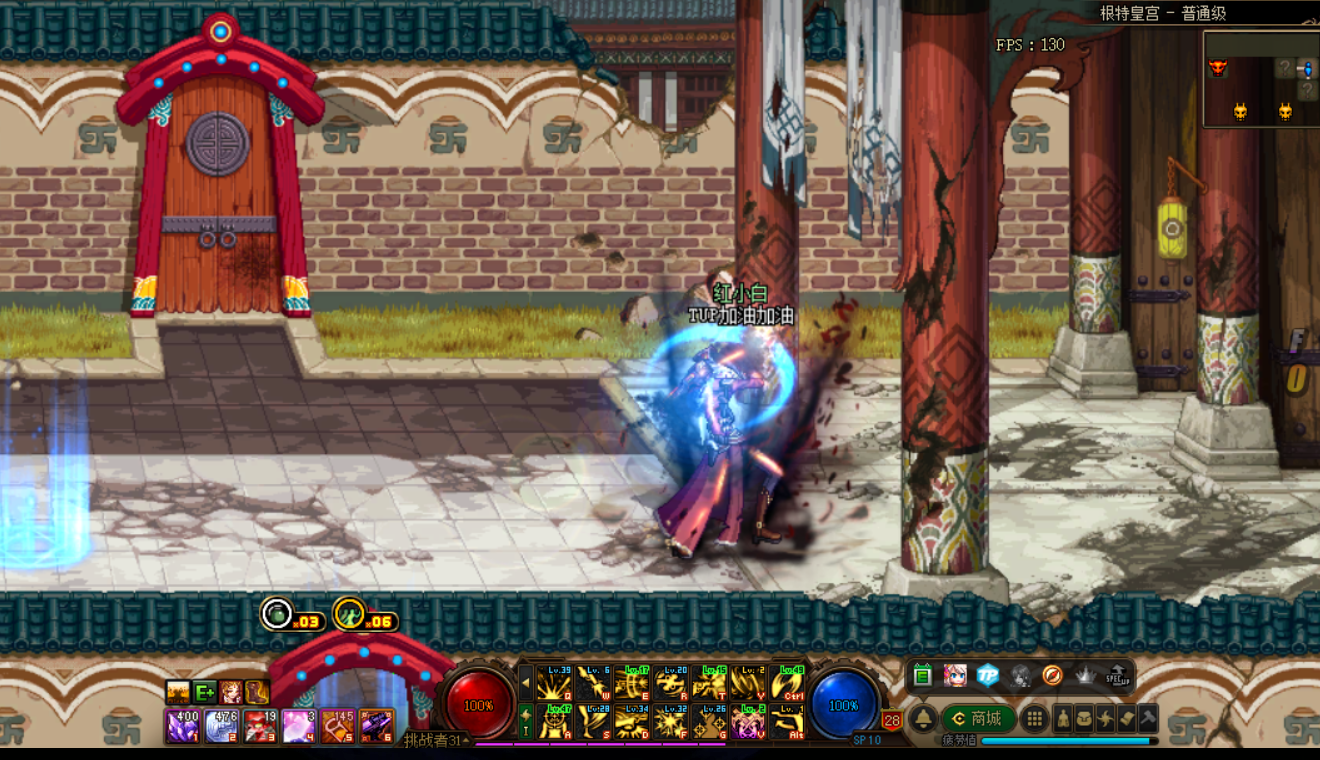warrior: (652, 336, 796, 553)
